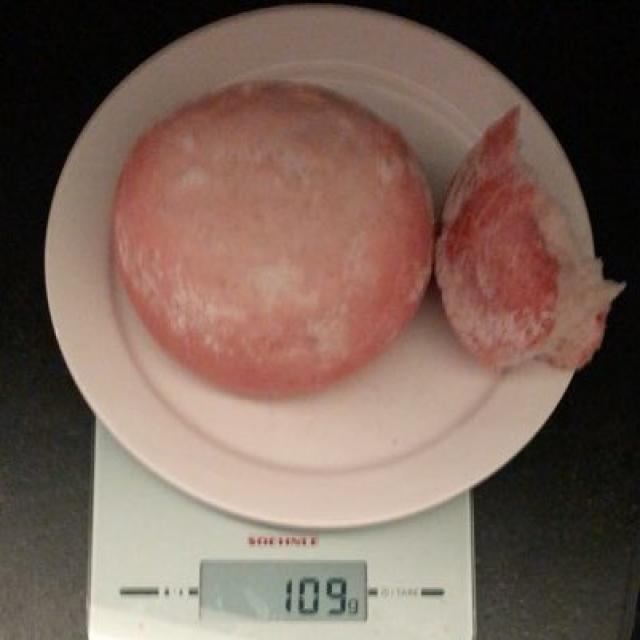bread-white: (113, 82, 593, 388)
